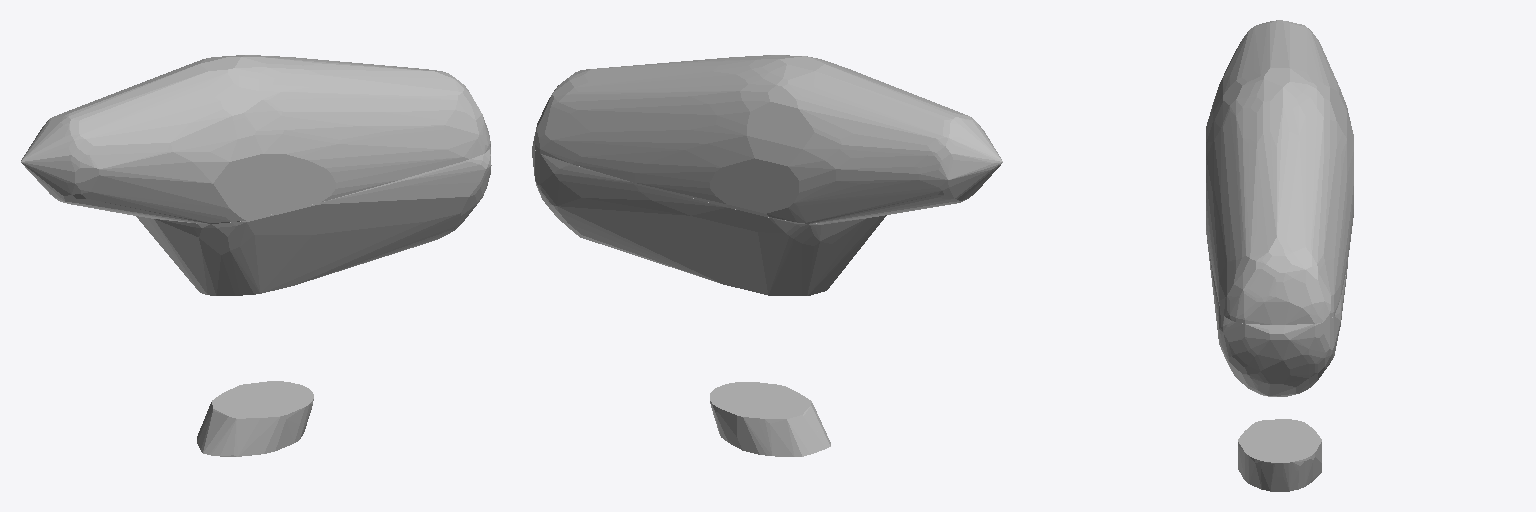
The robot description file, URDF, robot "root":
<robot name="root">
  <link name="link_coacd_convex_piece_0">
    <inertial>
      <origin xyz="0 0 0" rpy="0 0 0"/>
      <inertia ixx="3.52E-02" ixy="1.15E-05" ixz="1.15E-03" iyy="4.46E-02" iyz="5.73E-04" izz="1.13E-02"/>
    </inertial>
    <visual>
      <origin xyz="0 0 0" rpy="0 0 0"/>
      <geometry>
        <mesh filename="coacd_convex_piece_0.obj" scale="1.0000E+00 1.0000E+00 1.0000E+00"/>
      </geometry>
      <material name="">
        <color rgba="7.50E-01 7.50E-01 7.50E-01 1"/>
      </material>
    </visual>
    <collision>
      <origin xyz="0 0 0" rpy="0 0 0"/>
      <geometry>
        <mesh filename="coacd_convex_piece_0.obj" scale="1.0000E+00 1.0000E+00 1.0000E+00"/>
      </geometry>
    </collision>
  </link>
  <link name="link_coacd_convex_piece_1">
    <inertial>
      <origin xyz="0 0 0" rpy="0 0 0"/>
      <inertia ixx="6.81E-03" ixy="1.59E-04" ixz="-4.21E-03" iyy="1.35E-02" iyz="1.97E-04" izz="7.74E-03"/>
    </inertial>
    <visual>
      <origin xyz="0 0 0" rpy="0 0 0"/>
      <geometry>
        <mesh filename="coacd_convex_piece_1.obj" scale="1.0000E+00 1.0000E+00 1.0000E+00"/>
      </geometry>
      <material name="">
        <color rgba="7.50E-01 7.50E-01 7.50E-01 1"/>
      </material>
    </visual>
    <collision>
      <origin xyz="0 0 0" rpy="0 0 0"/>
      <geometry>
        <mesh filename="coacd_convex_piece_1.obj" scale="1.0000E+00 1.0000E+00 1.0000E+00"/>
      </geometry>
    </collision>
  </link>
  <joint name="link_coacd_convex_piece_1_joint" type="fixed">
    <origin xyz="0 0 0" rpy="0 0 0"/>
    <parent link="link_coacd_convex_piece_0"/>
    <child link="link_coacd_convex_piece_1"/>
  </joint>
  <link name="link_coacd_convex_piece_2">
    <inertial>
      <origin xyz="0 0 0" rpy="0 0 0"/>
      <inertia ixx="3.89E-02" ixy="3.89E-06" ixz="-9.98E-03" iyy="4.47E-02" iyz="-1.05E-05" izz="8.46E-03"/>
    </inertial>
    <visual>
      <origin xyz="0 0 0" rpy="0 0 0"/>
      <geometry>
        <mesh filename="coacd_convex_piece_2.obj" scale="1.0000E+00 1.0000E+00 1.0000E+00"/>
      </geometry>
      <material name="">
        <color rgba="7.50E-01 7.50E-01 7.50E-01 1"/>
      </material>
    </visual>
    <collision>
      <origin xyz="0 0 0" rpy="0 0 0"/>
      <geometry>
        <mesh filename="coacd_convex_piece_2.obj" scale="1.0000E+00 1.0000E+00 1.0000E+00"/>
      </geometry>
    </collision>
  </link>
  <joint name="link_coacd_convex_piece_2_joint" type="fixed">
    <origin xyz="0 0 0" rpy="0 0 0"/>
    <parent link="link_coacd_convex_piece_1"/>
    <child link="link_coacd_convex_piece_2"/>
  </joint>
  <link name="link_coacd_convex_piece_3">
    <inertial>
      <origin xyz="0 0 0" rpy="0 0 0"/>
      <inertia ixx="2.89E-04" ixy="7.07E-06" ixz="4.21E-05" iyy="4.21E-04" iyz="-1.01E-05" izz="2.50E-04"/>
    </inertial>
    <visual>
      <origin xyz="0 0 0" rpy="0 0 0"/>
      <geometry>
        <mesh filename="coacd_convex_piece_3.obj" scale="1.0000E+00 1.0000E+00 1.0000E+00"/>
      </geometry>
      <material name="">
        <color rgba="7.50E-01 7.50E-01 7.50E-01 1"/>
      </material>
    </visual>
    <collision>
      <origin xyz="0 0 0" rpy="0 0 0"/>
      <geometry>
        <mesh filename="coacd_convex_piece_3.obj" scale="1.0000E+00 1.0000E+00 1.0000E+00"/>
      </geometry>
    </collision>
  </link>
  <joint name="link_coacd_convex_piece_3_joint" type="fixed">
    <origin xyz="0 0 0" rpy="0 0 0"/>
    <parent link="link_coacd_convex_piece_2"/>
    <child link="link_coacd_convex_piece_3"/>
  </joint>
  <link name="link_coacd_convex_piece_4">
    <inertial>
      <origin xyz="0 0 0" rpy="0 0 0"/>
      <inertia ixx="3.87E-04" ixy="9.46E-07" ixz="3.01E-05" iyy="4.02E-04" iyz="-1.26E-05" izz="4.50E-05"/>
    </inertial>
    <visual>
      <origin xyz="0 0 0" rpy="0 0 0"/>
      <geometry>
        <mesh filename="coacd_convex_piece_4.obj" scale="1.0000E+00 1.0000E+00 1.0000E+00"/>
      </geometry>
      <material name="">
        <color rgba="7.50E-01 7.50E-01 7.50E-01 1"/>
      </material>
    </visual>
    <collision>
      <origin xyz="0 0 0" rpy="0 0 0"/>
      <geometry>
        <mesh filename="coacd_convex_piece_4.obj" scale="1.0000E+00 1.0000E+00 1.0000E+00"/>
      </geometry>
    </collision>
  </link>
  <joint name="link_coacd_convex_piece_4_joint" type="fixed">
    <origin xyz="0 0 0" rpy="0 0 0"/>
    <parent link="link_coacd_convex_piece_3"/>
    <child link="link_coacd_convex_piece_4"/>
  </joint>
</robot>

--- What the picture shows (computed from the rendered views, not written in the file) ---
3 views of the same robot in one strip: view 1: azimuth 30°, elevation 25°; view 2: azimuth 150°, elevation 25°; view 3: azimuth 270°, elevation 25° (orthographic).
Model root with 5 links and 4 joints (4 fixed), rooted at link_coacd_convex_piece_0, posed every joint at zero.
Links seen in each view (by area): view 1: link_coacd_convex_piece_0, link_coacd_convex_piece_1, link_coacd_convex_piece_4; view 2: link_coacd_convex_piece_0, link_coacd_convex_piece_1, link_coacd_convex_piece_4; view 3: link_coacd_convex_piece_0, link_coacd_convex_piece_1, link_coacd_convex_piece_4.
Boxes of the visible links, box(x1,y1,x2,y2) form: link_coacd_convex_piece_0: box(21, 55, 490, 223); link_coacd_convex_piece_1: box(136, 147, 491, 295); link_coacd_convex_piece_4: box(197, 381, 313, 456); link_coacd_convex_piece_0: box(533, 55, 1002, 223); link_coacd_convex_piece_1: box(532, 146, 886, 295); link_coacd_convex_piece_4: box(710, 382, 830, 456); link_coacd_convex_piece_0: box(1206, 20, 1353, 324); link_coacd_convex_piece_1: box(1206, 234, 1347, 396); link_coacd_convex_piece_4: box(1238, 419, 1321, 491).
Size in the robot's own frame: 1.45 by 0.407 by 1.15 metres.
3 mesh visuals loaded from 5 distinct referenced files (3 OBJ); not drawn: 2 (reference not matched to a file when rendering).